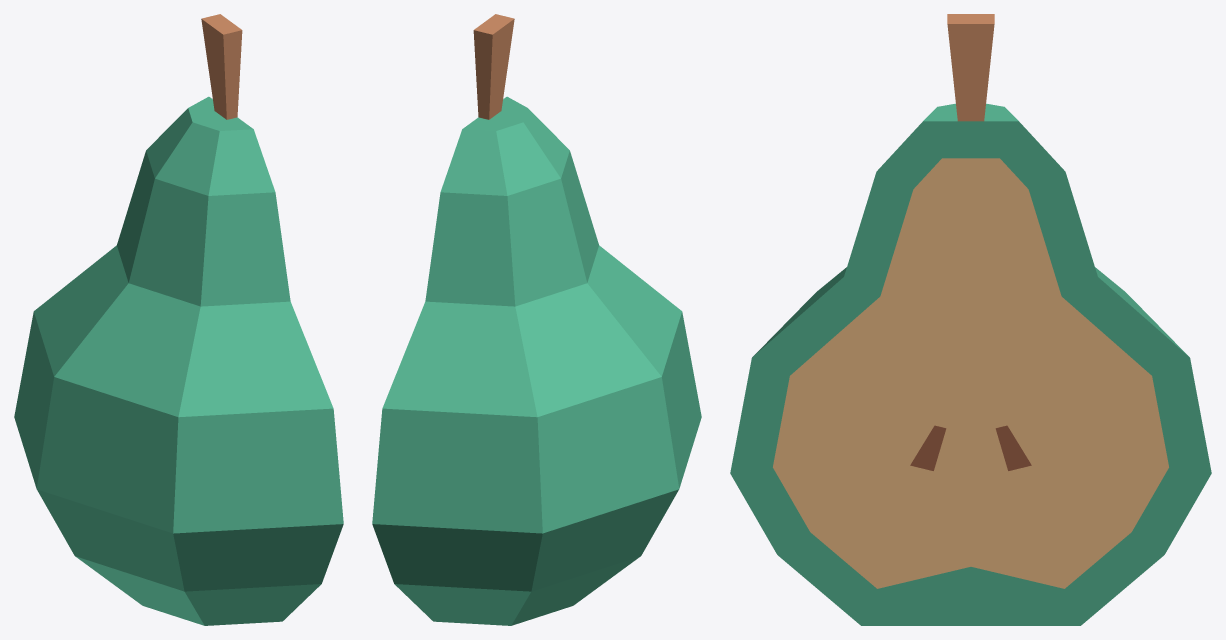
The model's file is pearHalf.fbx.
The picture shows the model from 3 angles, left to right: view 1: azimuth 30°, elevation 25°; view 2: azimuth 150°, elevation 25°; view 3: azimuth 270°, elevation 25°; orthographic projection. The views are drawn at different scales.
Parts seen in each view (by area): view 1: pearHalf; view 2: pearHalf; view 3: pearHalf.
Boxes of the visible parts, box(x1,y1,x2,y2) form: pearHalf: box(14, 14, 343, 625); pearHalf: box(372, 14, 701, 625); pearHalf: box(730, 14, 1211, 625).
Size of the model in its own units: 0.9815 by 2.71 by 1.96.
